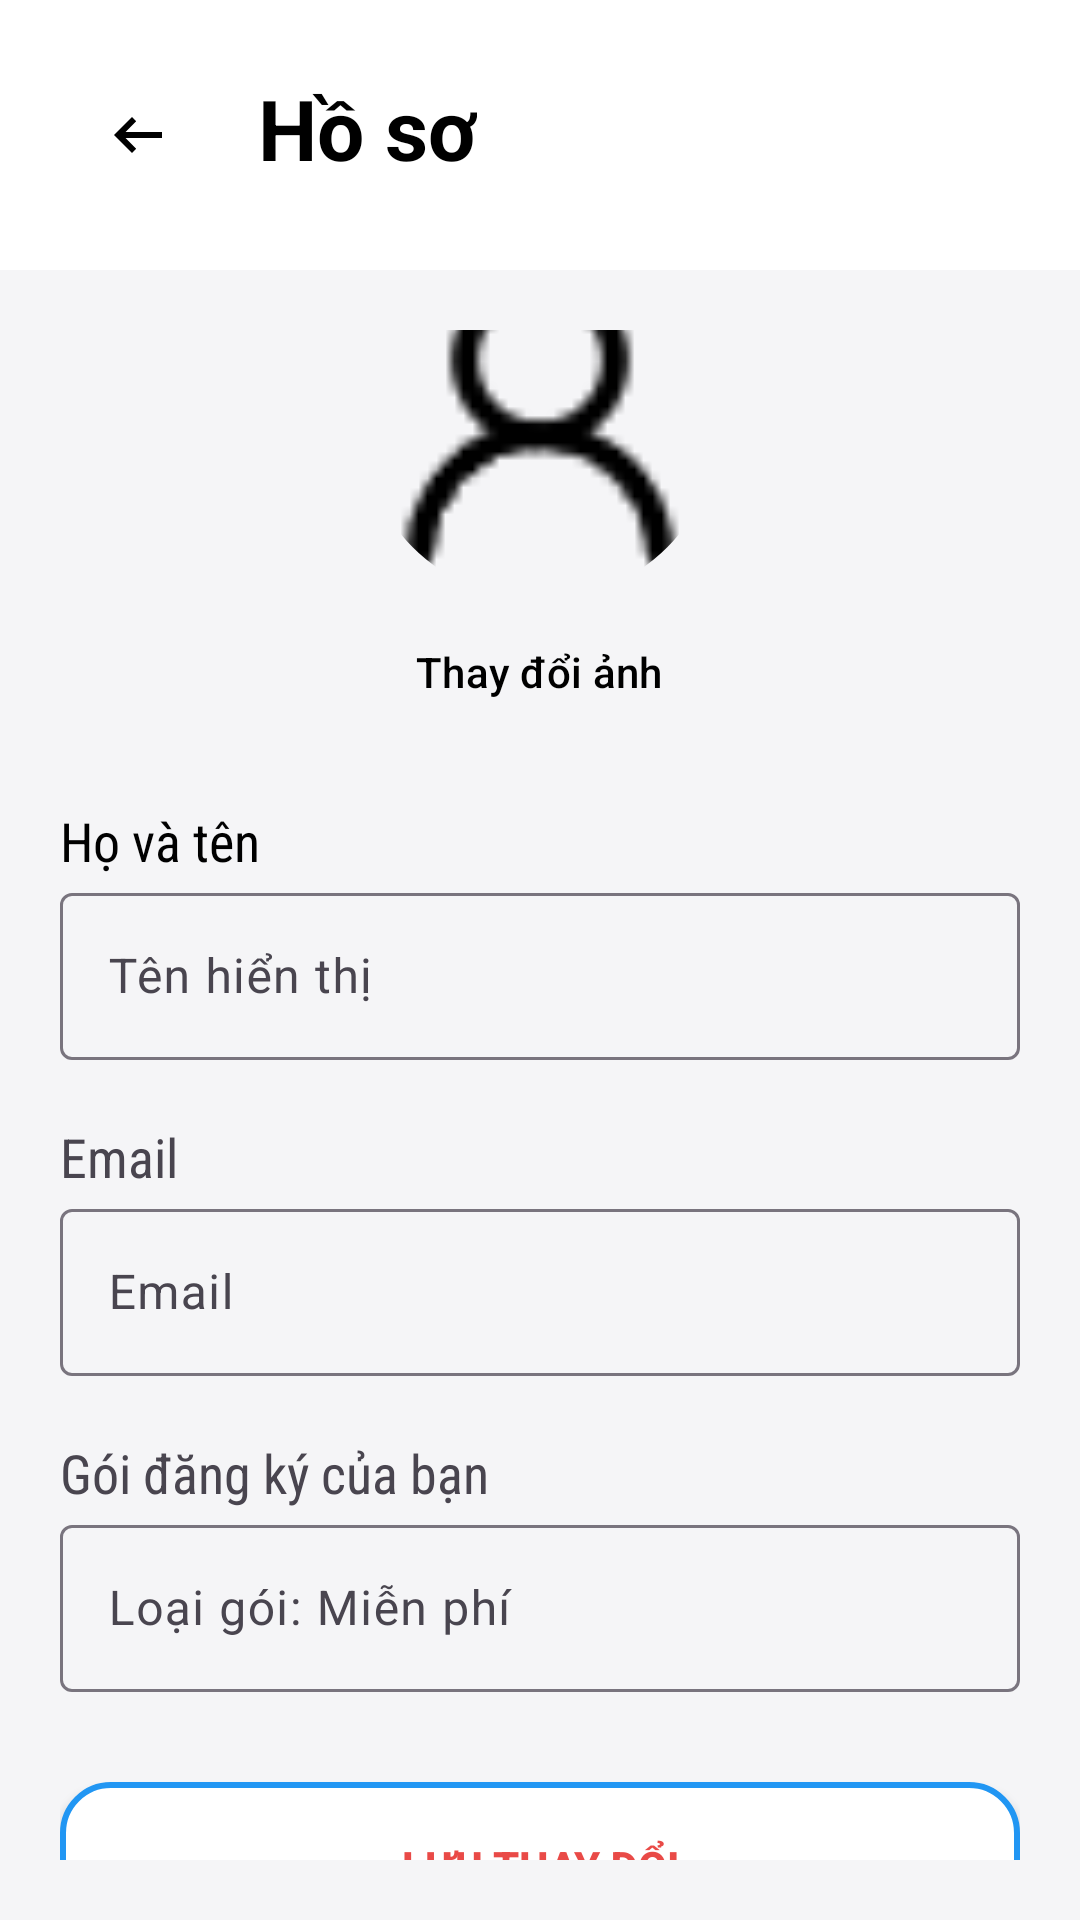

Screen size 1080px×1920px. Icon name, then its box in pixels as (x1=x1, y1=y1, x2=x2, y2=y2):
arrow left: (x1=114, y1=117, x2=162, y2=153)
